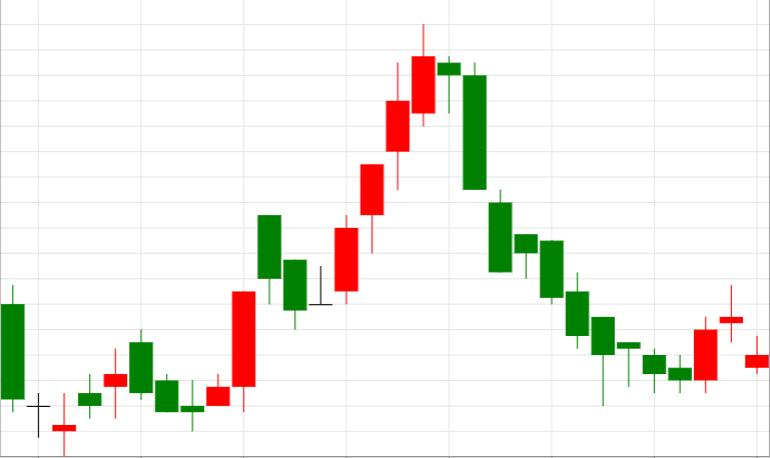evening_star_fall: (309, 24, 487, 306)
